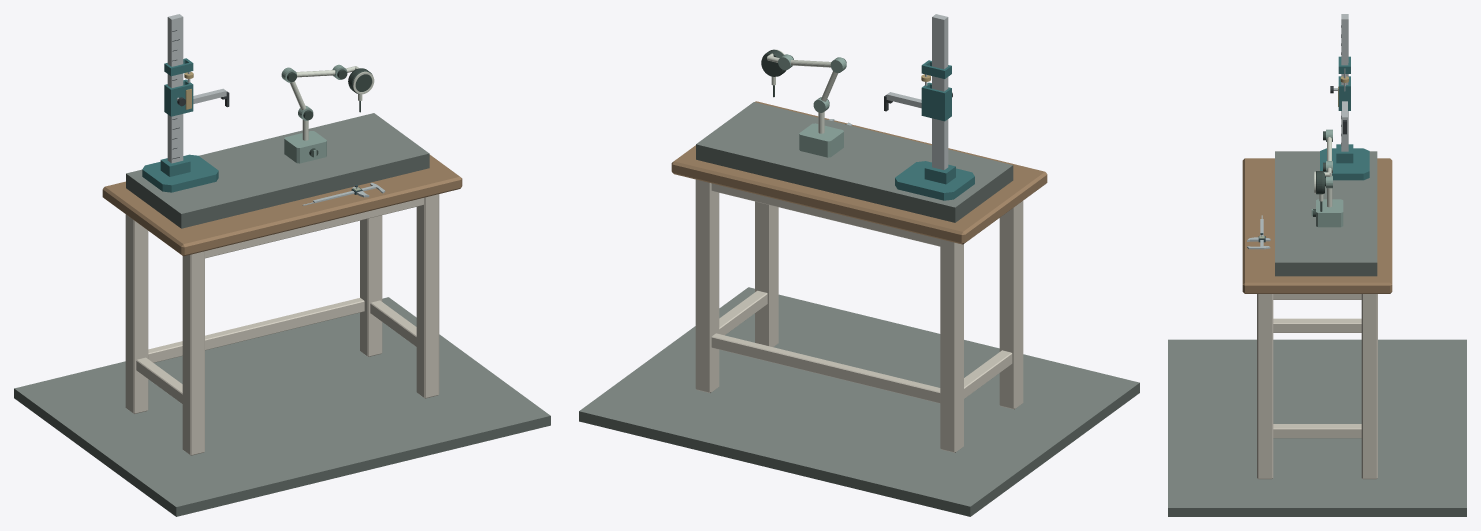
3 views of the same model, side by side, from view 1: azimuth 30°, elevation 25°; view 2: azimuth 150°, elevation 25°; view 3: azimuth 270°, elevation 25° (orthographic). The views are drawn at different scales.
Parts seen in each view (by area): view 1: SCENE_ONLY__FloorAndRaisedDatumPlate, table__Complete work surface, table__Worktable leg.002, table__Worktable leg, table__Worktable leg.001, table__Rear lower brace, table__Worktable leg.003, height__WholeRectangularUprightBeam, table__Upper long apron, height__WholeBroadDatumBase, articulated__WholeHeavyChamferedBase, table__Side lower stretcher (+2 smaller); view 2: SCENE_ONLY__FloorAndRaisedDatumPlate, table__Complete work surface, table__Worktable leg.003, table__Worktable leg.001, table__Worktable leg, table__Rear lower brace, table__Worktable leg.002, height__WholeRectangularUprightBeam, table__Upper long apron.001, height__WholeBroadDatumBase, articulated__WholeHeavyChamferedBase, table__Side lower stretcher (+2 smaller); view 3: SCENE_ONLY__FloorAndRaisedDatumPlate, table__Complete work surface, table__Worktable leg.002, table__Worktable leg.003, table__Side lower stretcher, table__Side lower stretcher.001, height__WholeBroadDatumBase, articulated__WholeHeavyChamferedBase, height__WholeRectangularUprightBeam, table__Side upper apron.001.
Boxes of the visible parts, x1,y1,x2,y2 form: SCENE_ONLY__FloorAndRaisedDatumPlate: (14, 113, 550, 516); table__Complete work surface: (102, 155, 462, 256); table__Worktable leg.002: (416, 194, 439, 398); table__Worktable leg: (182, 251, 204, 455); table__Worktable leg.001: (125, 214, 148, 413); table__Rear lower brace: (148, 298, 364, 362); table__Worktable leg.003: (360, 215, 382, 356); height__WholeRectangularUprightBeam: (167, 14, 183, 163); table__Upper long apron: (205, 198, 423, 258); height__WholeBroadDatumBase: (142, 154, 218, 192); articulated__WholeHeavyChamferedBase: (284, 131, 326, 163); table__Side lower stretcher: (136, 357, 182, 403); SCENE_ONLY__FloorAndRaisedDatumPlate: (579, 102, 1139, 516); table__Complete work surface: (671, 101, 1047, 244); table__Worktable leg.003: (695, 179, 719, 393); table__Worktable leg.001: (940, 239, 963, 452); table__Worktable leg: (999, 201, 1023, 409); table__Rear lower brace: (711, 333, 940, 403); table__Worktable leg.002: (755, 201, 778, 346); height__WholeRectangularUprightBeam: (932, 14, 948, 169); table__Upper long apron.001: (711, 183, 940, 246); height__WholeBroadDatumBase: (895, 161, 974, 200); articulated__WholeHeavyChamferedBase: (799, 123, 843, 157); table__Side lower stretcher: (964, 350, 1012, 398); SCENE_ONLY__FloorAndRaisedDatumPlate: (1168, 151, 1466, 516); table__Complete work surface: (1242, 158, 1392, 293); table__Worktable leg.002: (1257, 294, 1273, 479); table__Worktable leg.003: (1361, 294, 1377, 479); table__Side lower stretcher: (1273, 318, 1361, 332); table__Side lower stretcher.001: (1273, 424, 1361, 438); height__WholeBroadDatumBase: (1320, 148, 1369, 180); articulated__WholeHeavyChamferedBase: (1316, 199, 1343, 227); height__WholeRectangularUprightBeam: (1341, 14, 1348, 151); table__Side upper apron.001: (1273, 294, 1361, 299).
Size of the model in its own units: 1.6 by 1.66 by 1.2.
